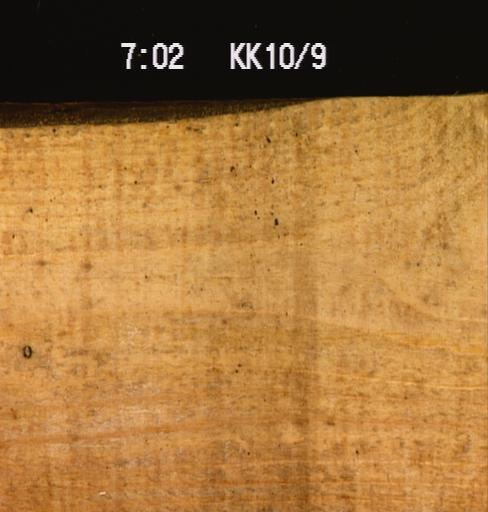dry_knot: (21, 341, 33, 359)
wave: (0, 98, 322, 127)
